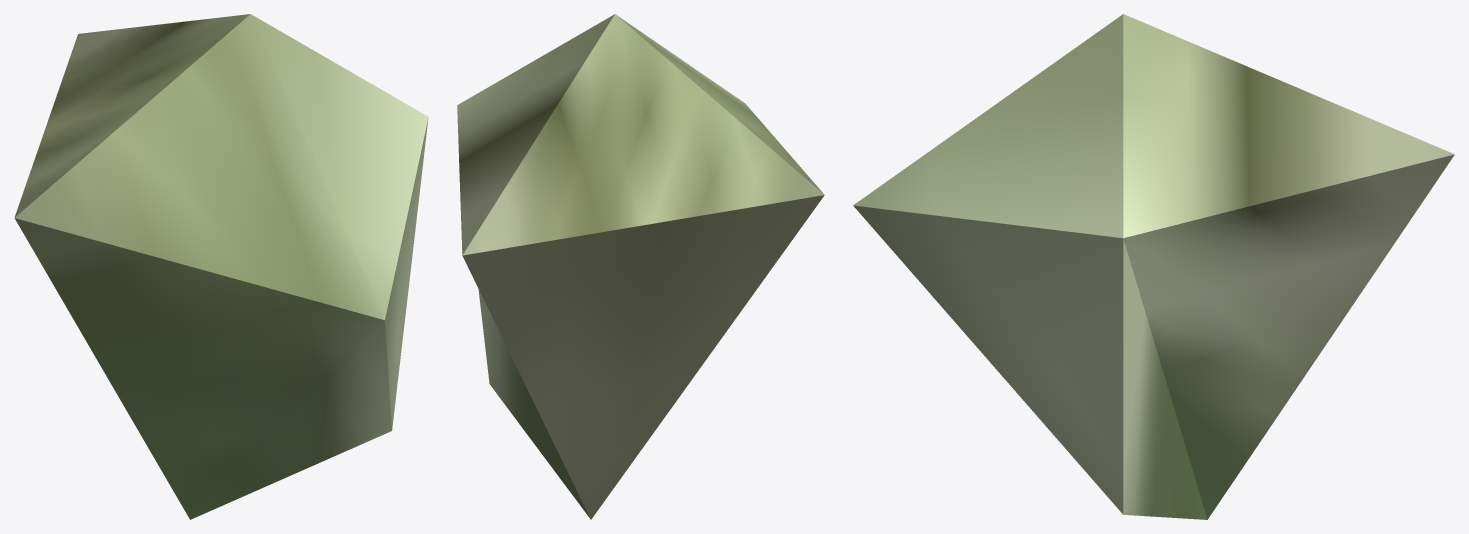
3 views of the same model, side by side, from view 1: azimuth 30°, elevation 25°; view 2: azimuth 150°, elevation 25°; view 3: azimuth 270°, elevation 25° (orthographic). The views are drawn at different scales.
Bounding box in the file's own units: 0.0549 × 0.0677 × 0.0719.
1 material, 1 textured.
